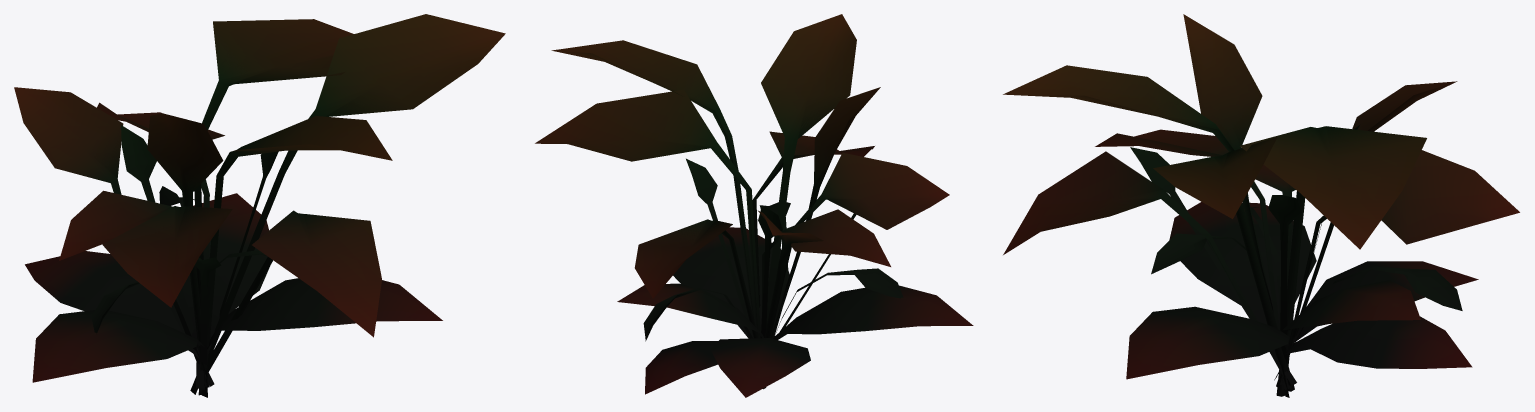
Rendered from TEM_Plant_05A.fbx.
3 views of the same model, side by side, from view 1: azimuth 30°, elevation 25°; view 2: azimuth 150°, elevation 25°; view 3: azimuth 270°, elevation 25° (orthographic). The views are drawn at different scales.
Parts seen in each view (by area): view 1: TEM_Plant_05A_LOD0; view 2: TEM_Plant_05A_LOD0; view 3: TEM_Plant_05A_LOD0.
Part boxes in pixels (x1,y1,x2,y2): TEM_Plant_05A_LOD0: (14,14,505,397); TEM_Plant_05A_LOD0: (535,14,973,397); TEM_Plant_05A_LOD0: (1003,14,1519,397).
Size of what is drawn, in the model's own units: 109 by 72.71 by 101.
